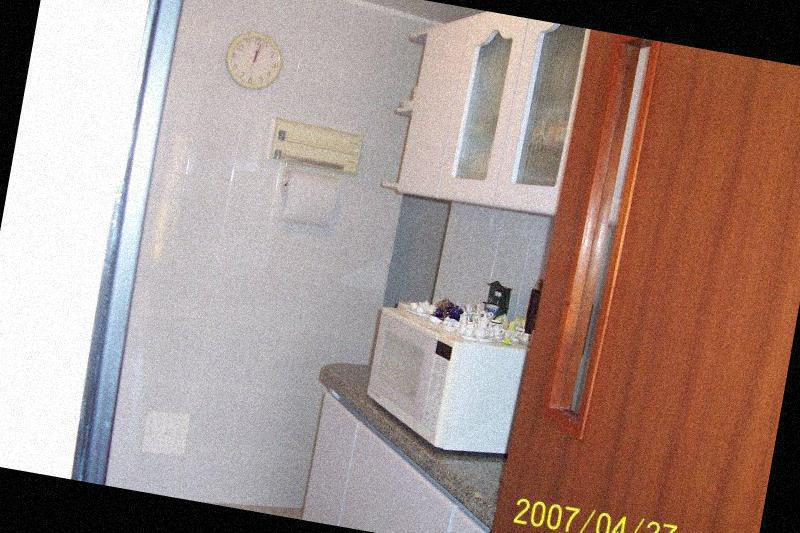Puerta: (501, 36, 800, 533)
